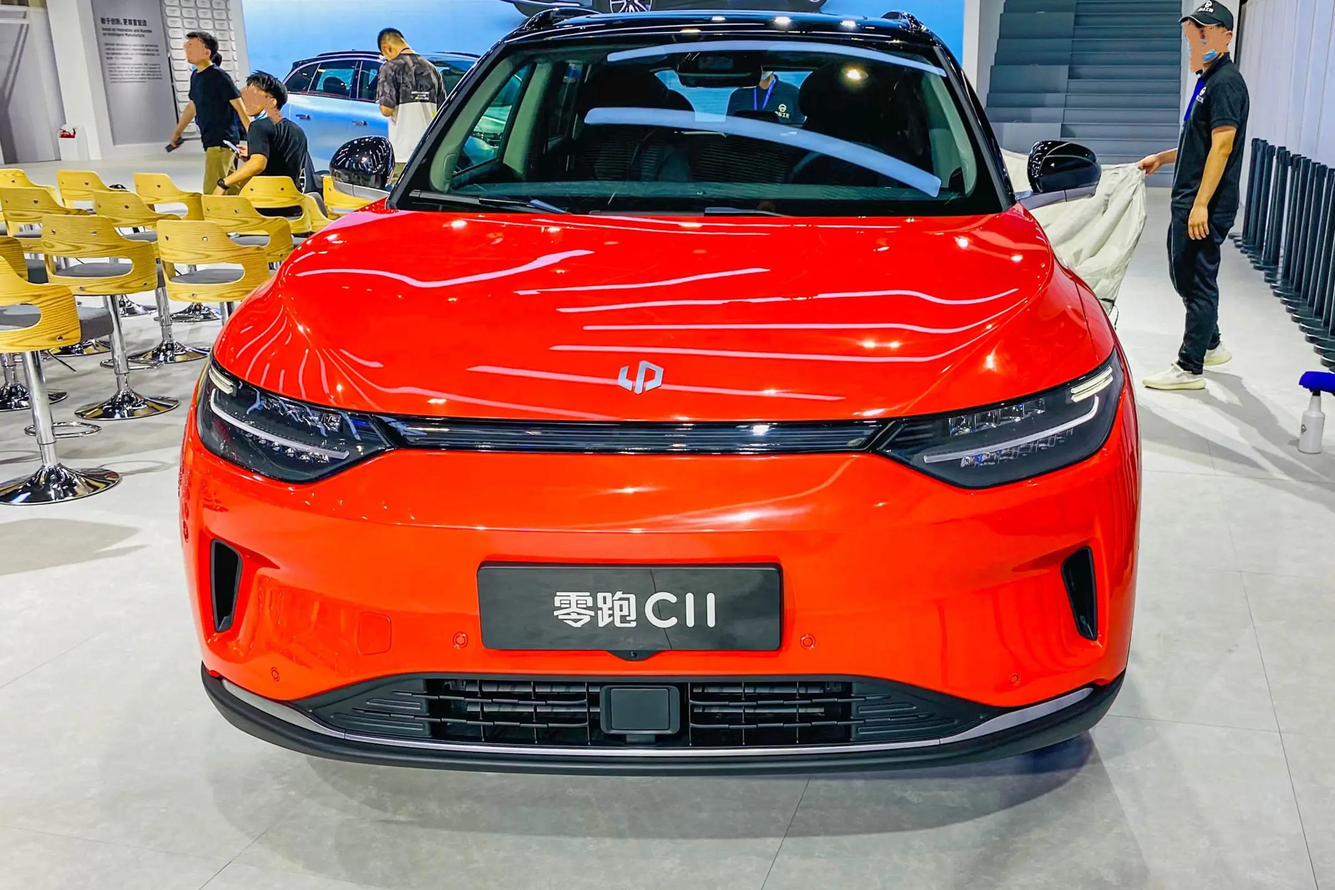LEAPMOTOR: (617, 360, 664, 395)
